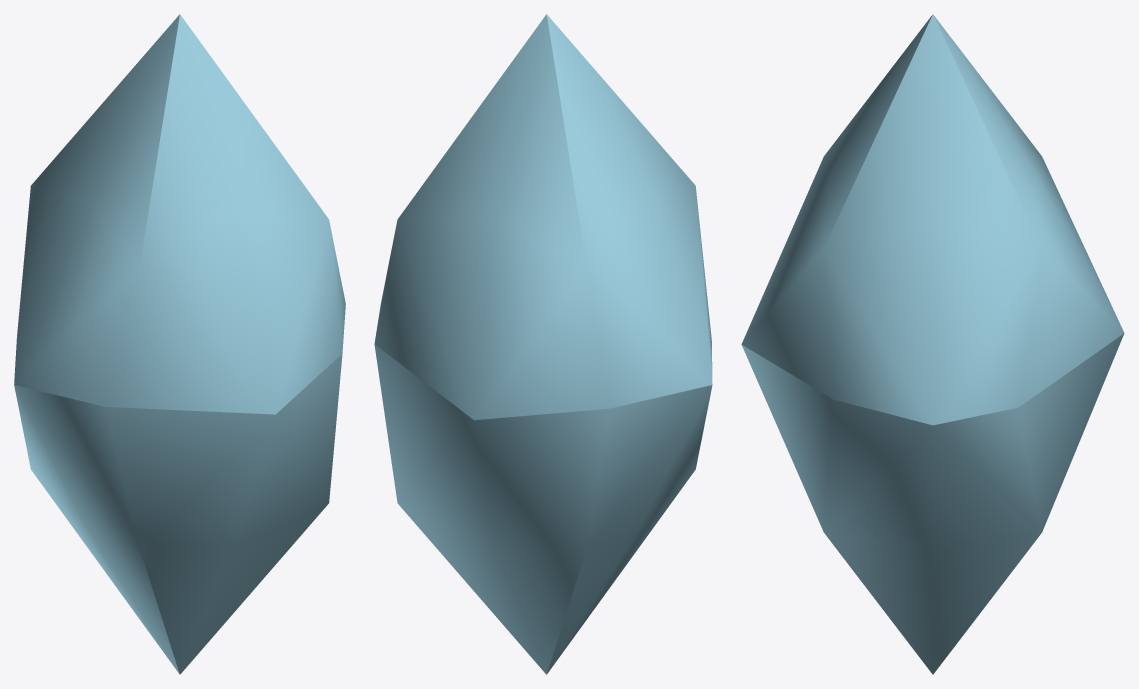
Rendered from Crystal.fbx.
3 renders of one model, left to right at view 1: azimuth 30°, elevation 25°; view 2: azimuth 150°, elevation 25°; view 3: azimuth 270°, elevation 25°, orthographic.
Parts seen in each view (by area): view 1: pCube4; view 2: pCube4; view 3: pCube4.
Boxes of the visible parts, x1,y1,x2,y2 form: pCube4: [14, 14, 345, 674]; pCube4: [374, 14, 712, 674]; pCube4: [741, 14, 1124, 674].
Bounding box in the file's own units: 46.06 × 87.69 × 46.06.
